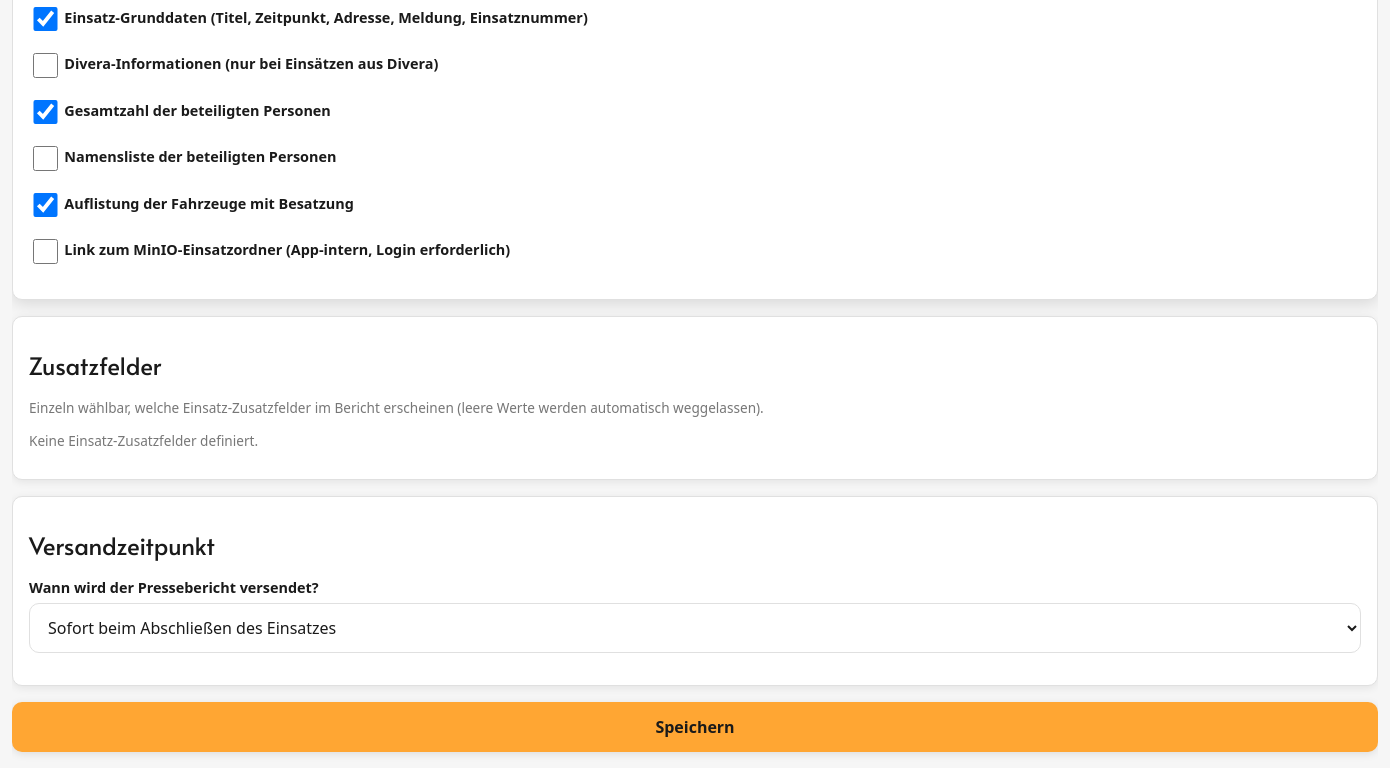
Test: PresseberichtModul (Admin-Einstellungen) › speichert die Einstellungen mit dem gewählten Versandmodus
(page scrolled)
Select "Täglich zu einer festen Uhrzeit (nur abgeschlossene Einsätze)" in the dropdown labelled "Wann wird der Pressebericht versendet?". click: (695, 628)
box: [29,603,1361,653]
(page scrolled)
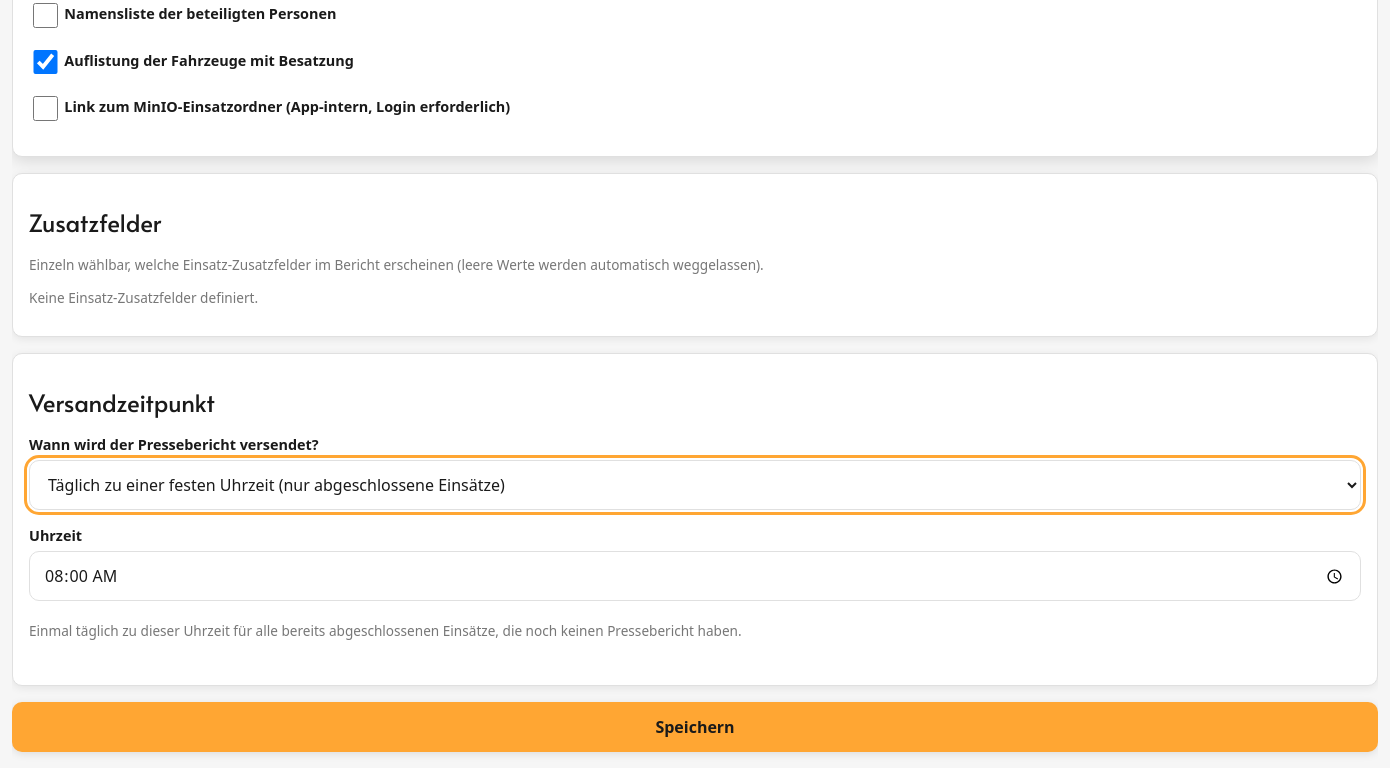
Click the button "Speichern". click: (695, 727)
box: [12,702,1378,752]
(page scrolled)
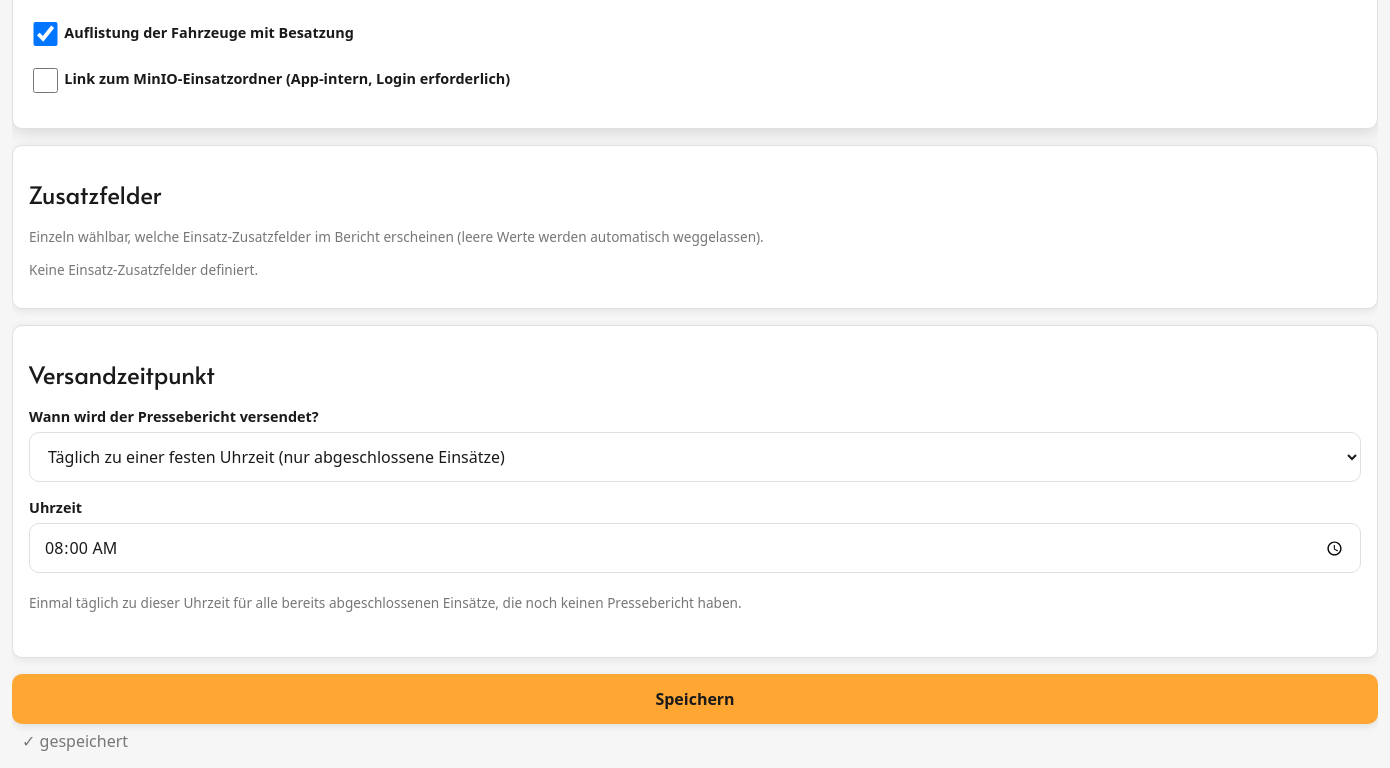
Now the text "✓ gespeichert" is shown, box [22,730,128,752]
